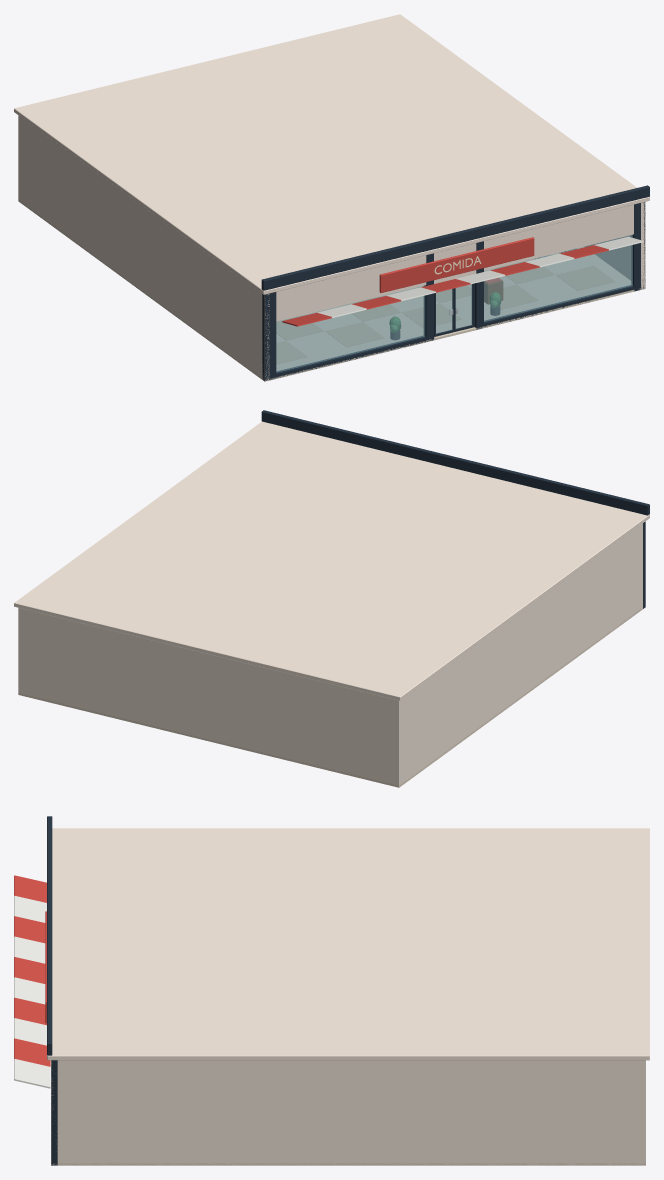
Rendered from Local_Comida.fbx.
3 renders of one model, top to bottom at view 1: azimuth 30°, elevation 25°; view 2: azimuth 150°, elevation 25°; view 3: azimuth 270°, elevation 25°, orthographic. The views are drawn at different scales.
Parts seen in each view (by area): view 1: Roof.005, WallSide.009, Floor.004, Storefront.009, Storefront.008, FloorTiles.005, Parapet.005, StoreTop.009, StoreTop.008, SignBoard.005, Pillar.009, WallSide.008 (+6 smaller); view 2: Roof.005, WallBack.005, WallSide.009, Parapet.005, Floor.004; view 3: Roof.005, WallSide.008, Floor.004, Parapet.005, Awning.019, Pillar.008, WallBack.005, Awning.018, Awning.010, Awning.017, Awning.011, Awning.016 (+4 smaller).
Part boxes in pixels (x1,y1,x2,y2): Roof.005: (14,14,649,294); WallSide.009: (18,116,269,381); Floor.004: (18,200,645,381); Storefront.009: (276,285,425,372); Storefront.008: (484,234,632,321); FloorTiles.005: (276,259,614,364); Parapet.005: (261,185,649,290); StoreTop.009: (276,255,426,321); StoreTop.008: (484,204,633,270); SignBoard.005: (379,237,534,292); Pillar.009: (262,292,276,380); WallSide.008: (585,202,645,289); Roof.005: (14,421,649,700); WallBack.005: (18,608,401,786); WallSide.009: (394,523,642,787); Parapet.005: (261,410,649,515); Floor.004: (18,607,642,787); Roof.005: (47,828,649,1060); WallSide.008: (51,1060,645,1165); Floor.004: (51,1163,645,1165); Parapet.005: (47,816,52,1055); Awning.019: (14,1059,50,1088); Pillar.008: (51,1060,57,1165); WallBack.005: (639,1060,645,1165); Awning.018: (14,1038,50,1066); Awning.010: (14,875,46,902); Awning.017: (14,1018,46,1045); Awning.011: (14,895,46,922); Awning.016: (14,997,46,1025).
Bounding box in the file's own units: 20.1 × 5.1 × 23.74.
